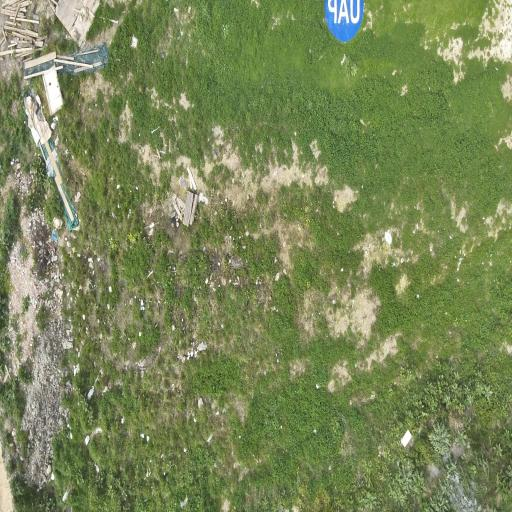UAP: (325, 0, 363, 40)
